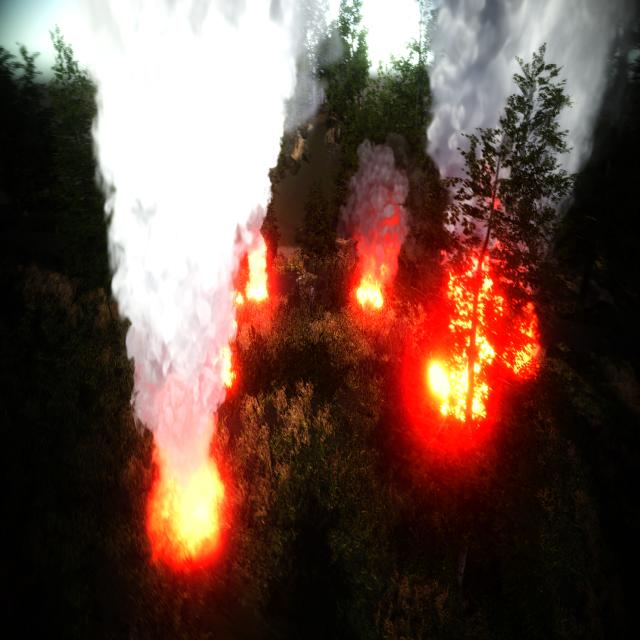Human: (307, 277, 317, 322)
